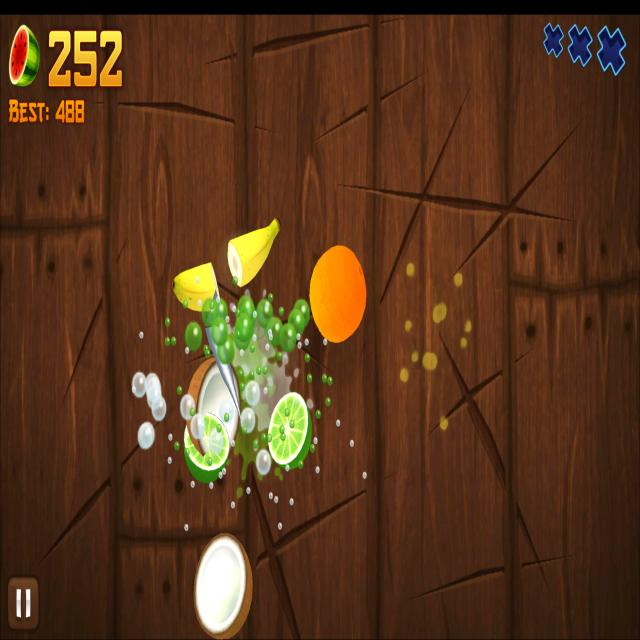fruit: (309, 244, 367, 345)
